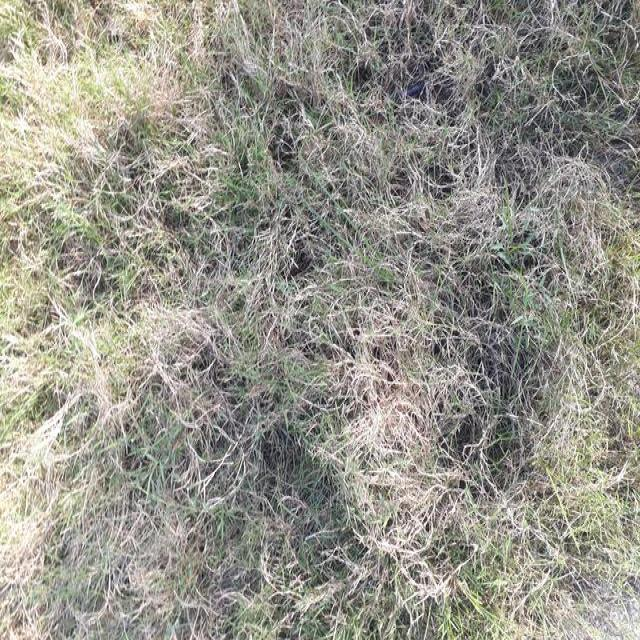weed: (0, 0, 638, 634)
